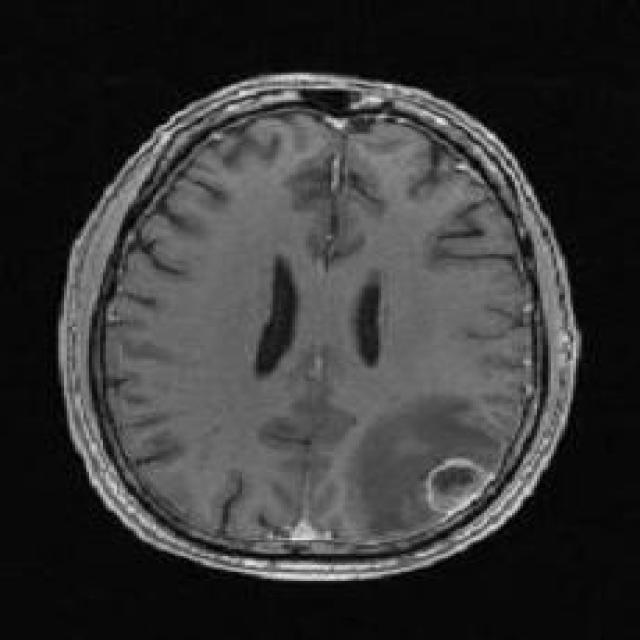notumor: (56, 75, 582, 588)
